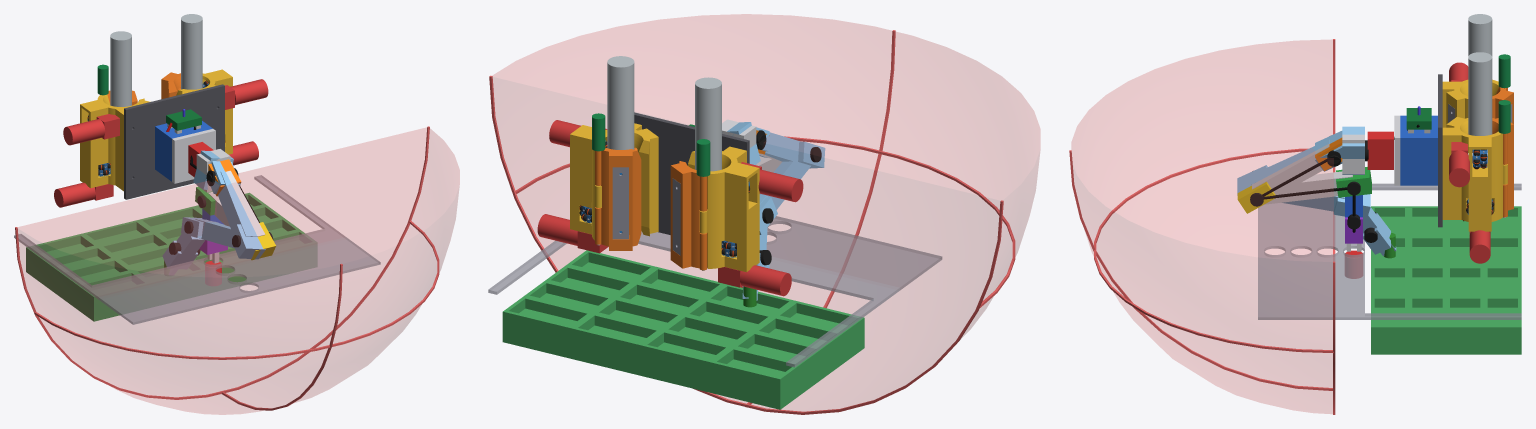
Rendered from cart-arm-v3.glb.
The picture shows the model from 3 angles, left to right: view 1: azimuth 30°, elevation 25°; view 2: azimuth 150°, elevation 25°; view 3: azimuth 270°, elevation 25°; orthographic projection. The views are drawn at different scales.
Visible parts, largest first — view 1: reach_envelope, seedling_tray, store_lid_patch, base_plate, hand_on_pipe_B_sleeve, reach_ring_across, reach_ring_on_lid, track_pipe_C, track_pipe_B, arm_pick_D1_base_plate, battery, ghost_arm_cell_A2_upper_arm (+15 smaller); view 2: reach_envelope, seedling_tray, store_lid_patch, hand_on_pipe_B_sleeve, hand_on_pipe_C_sleeve, hand_on_pipe_C_jaw, base_plate, hand_on_pipe_B_jaw, track_pipe_C, reach_ring_across, track_pipe_B, reach_ring_on_lid (+9 smaller); view 3: reach_envelope, seedling_tray, store_lid_patch, hand_on_pipe_C_sleeve, battery, track_pipe_C, reach_ring_on_lid, reach_ring_towards_store, arm_pick_D1_forearm, arm_pick_D1_upper_arm, hand_on_pipe_B_sleeve, arm_pick_D1_servo_A_base (+17 smaller).
Boxes of the visible parts, left/top/right/bottom form: reach_envelope: left=17, top=127, right=459, bottom=414; seedling_tray: left=26, top=192, right=316, bottom=321; store_lid_patch: left=14, top=175, right=380, bottom=324; base_plate: left=124, top=84, right=224, bottom=199; hand_on_pipe_B_sleeve: left=80, top=94, right=150, bottom=191; reach_ring_across: left=15, top=126, right=429, bottom=399; reach_ring_on_lid: left=34, top=221, right=439, bottom=359; track_pipe_C: left=181, top=14, right=202, bottom=89; track_pipe_B: left=110, top=31, right=131, bottom=106; arm_pick_D1_base_plate: left=172, top=129, right=215, bottom=183; battery: left=155, top=121, right=212, bottom=181; ghost_arm_cell_A2_upper_arm: left=218, top=171, right=257, bottom=236; reach_envelope: left=492, top=14, right=1040, bottom=411; seedling_tray: left=502, top=250, right=864, bottom=409; store_lid_patch: left=488, top=216, right=942, bottom=367; hand_on_pipe_B_sleeve: left=688, top=146, right=759, bottom=272; hand_on_pipe_C_sleeve: left=570, top=123, right=658, bottom=240; hand_on_pipe_C_jaw: left=595, top=147, right=641, bottom=250; base_plate: left=634, top=112, right=749, bottom=234; hand_on_pipe_B_jaw: left=670, top=161, right=707, bottom=270; track_pipe_C: left=607, top=56, right=634, bottom=149; reach_ring_across: left=489, top=75, right=1003, bottom=414; track_pipe_B: left=695, top=77, right=721, bottom=268; reach_ring_on_lid: left=515, top=136, right=1015, bottom=308; reach_envelope: left=1071, top=39, right=1333, bottom=413; seedling_tray: left=1371, top=206, right=1521, bottom=354; store_lid_patch: left=1258, top=183, right=1521, bottom=319; hand_on_pipe_C_sleeve: left=1442, top=117, right=1507, bottom=231; battery: left=1400, top=115, right=1437, bottom=185; track_pipe_C: left=1468, top=52, right=1492, bottom=163; reach_ring_on_lid: left=1094, top=148, right=1333, bottom=353; reach_ring_towards_store: left=1069, top=150, right=1332, bottom=390; arm_pick_D1_forearm: left=1264, top=171, right=1352, bottom=204; arm_pick_D1_upper_arm: left=1252, top=144, right=1329, bottom=194; hand_on_pipe_B_sleeve: left=1442, top=79, right=1498, bottom=127; arm_pick_D1_servo_A_base: left=1367, top=131, right=1393, bottom=169.
Bounding box in the file's own units: 703 × 517 × 601.
